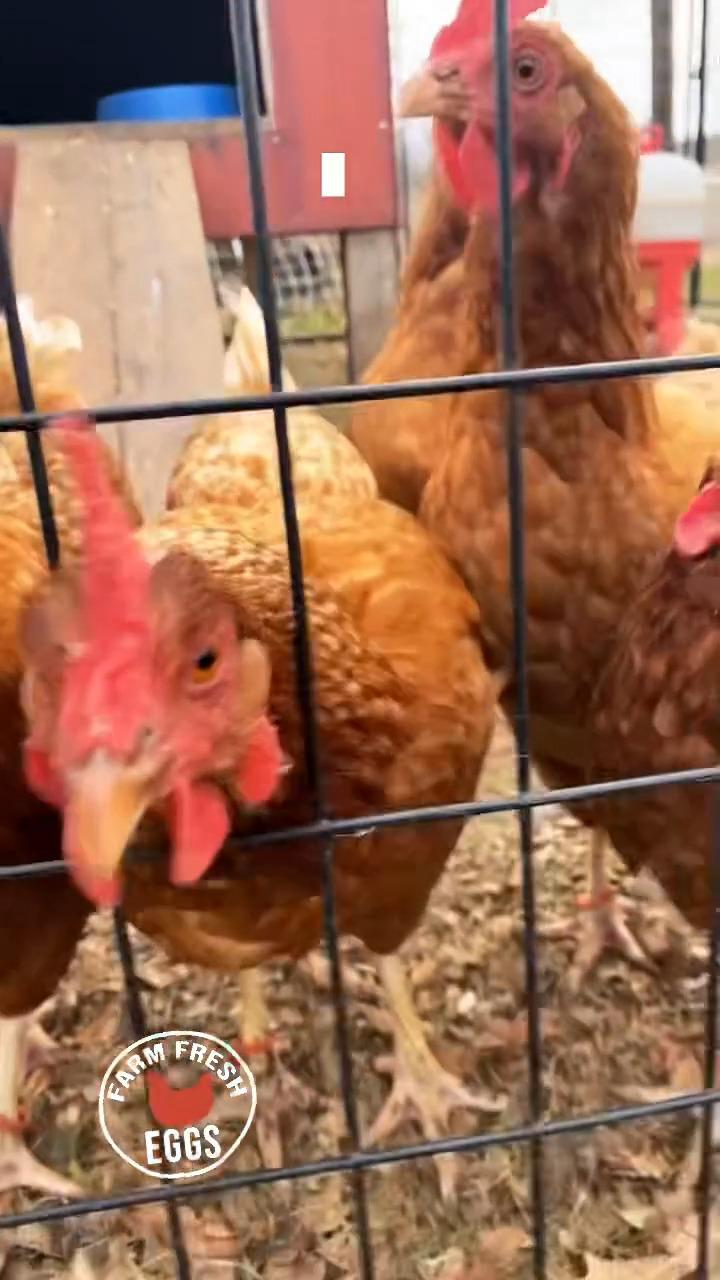rooster: (19, 278, 508, 1206), (387, 0, 719, 996), (0, 296, 139, 1222), (591, 446, 719, 1162), (353, 14, 480, 525)
